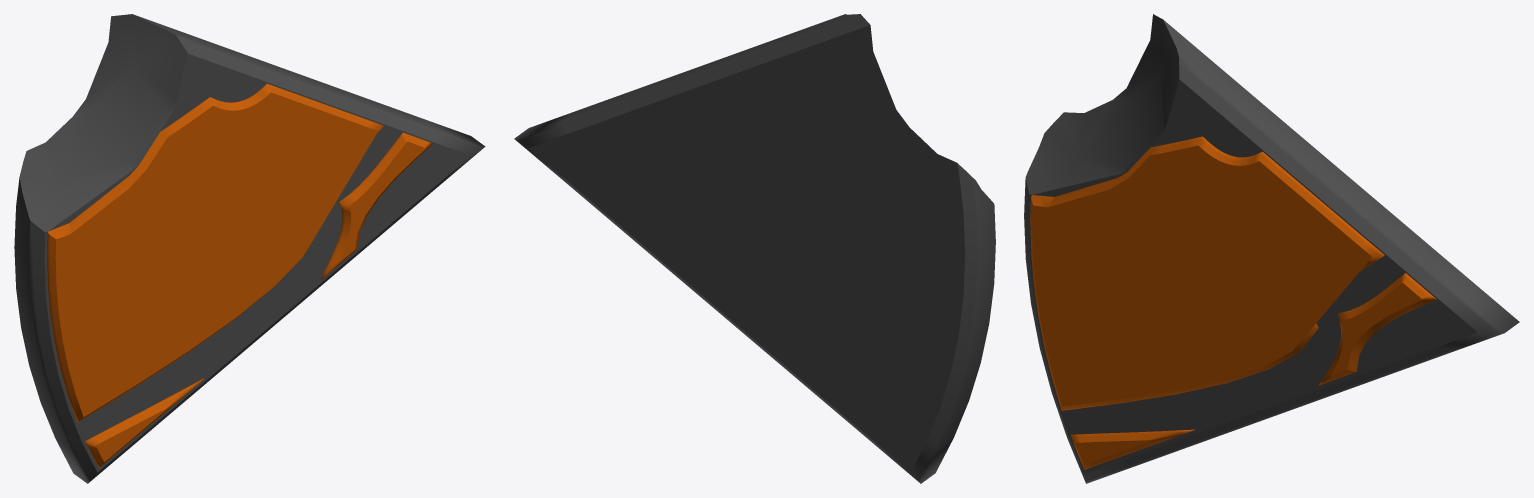
The model's file is stele_piece_05.fbx.
3 renders of one model, left to right at view 1: azimuth 30°, elevation 25°; view 2: azimuth 150°, elevation 25°; view 3: azimuth 330°, elevation 25°, orthographic. The views are drawn at different scales.
Parts seen in each view (by area): view 1: stele_v5_Depa_profile_polySurface9, polySurface48, stele_v5_Depa_profile_polySurface10, stele_v5_Depa_profile_polySurface11; view 2: polySurface48; view 3: stele_v5_Depa_profile_polySurface9, polySurface48, stele_v5_Depa_profile_polySurface10, stele_v5_Depa_profile_polySurface11.
Part boxes in pixels (x1,y1,x2,y2): stele_v5_Depa_profile_polySurface9: (47,83,383,422); polySurface48: (14,14,485,483); stele_v5_Depa_profile_polySurface10: (321,132,432,279); stele_v5_Depa_profile_polySurface11: (85,378,203,467); polySurface48: (514,14,995,483); stele_v5_Depa_profile_polySurface9: (1030,136,1384,410); polySurface48: (1024,14,1519,483); stele_v5_Depa_profile_polySurface10: (1318,273,1436,385); stele_v5_Depa_profile_polySurface11: (1070,429,1194,469).
Size of the model in its own units: 4.59 by 4.27 by 0.5135.
